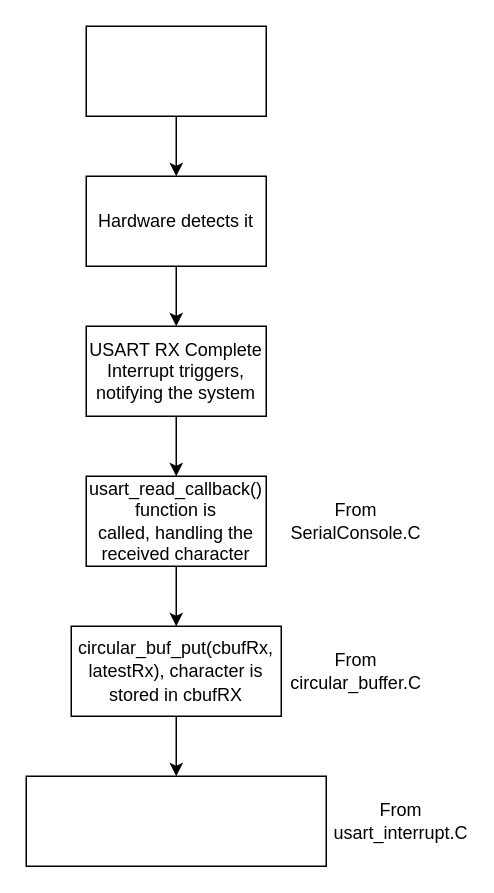
This 494x893 diagram has some shape labels left out. The centre of each missing label's shape, as x and y in pixels:
"usart_read_buffer_job() prepares for the next character" goes at (x=175, y=820).
"User types a character" goes at (x=175, y=70).
